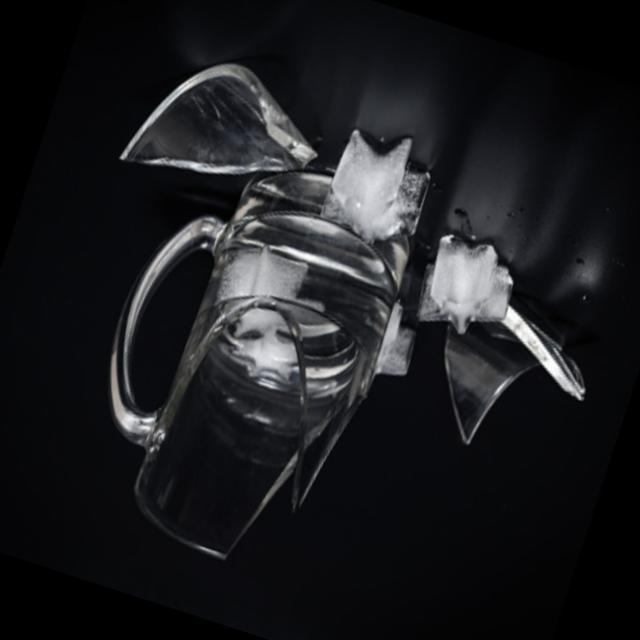PecahanKaca: (8, 39, 640, 640), (55, 126, 440, 594)
